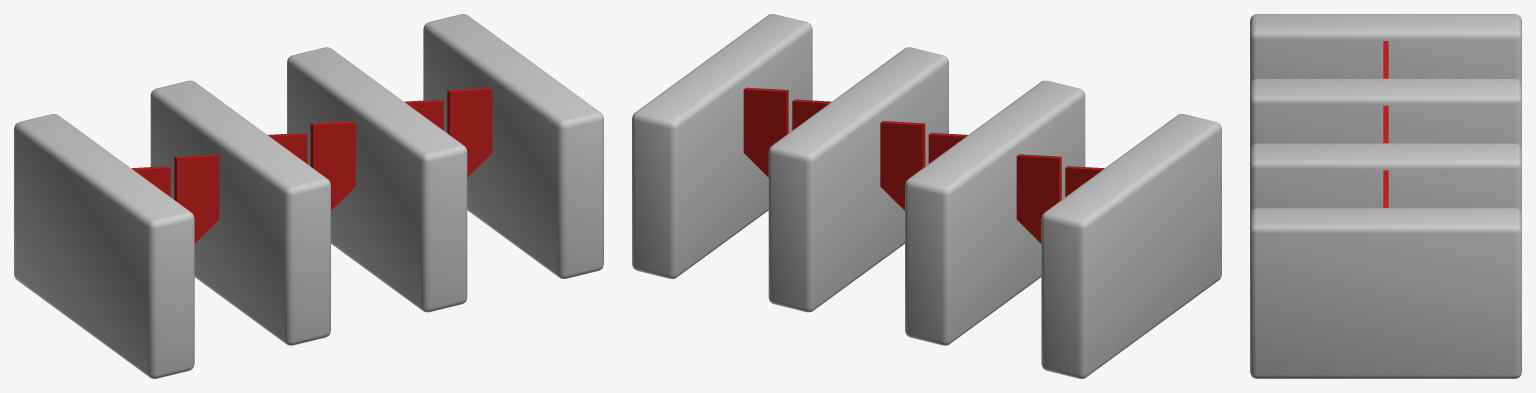
Rendered from rail.feature.ticket_gate.glb.
3 views of the same model, side by side, from view 1: azimuth 30°, elevation 25°; view 2: azimuth 150°, elevation 25°; view 3: azimuth 270°, elevation 25° (orthographic). The views are drawn at different scales.
Visible parts, largest first — view 1: main__steel_stainless, main__hazard_red; view 2: main__steel_stainless, main__hazard_red; view 3: main__steel_stainless, main__hazard_red.
Part boxes in pixels (x1=…): main__steel_stainless: x1=14, y1=14, x2=603, y2=378; main__hazard_red: x1=131, y1=87, x2=492, y2=243; main__steel_stainless: x1=632, y1=14, x2=1221, y2=378; main__hazard_red: x1=743, y1=87, x2=1104, y2=243; main__steel_stainless: x1=1250, y1=14, x2=1521, y2=378; main__hazard_red: x1=1383, y1=41, x2=1388, y2=207.
Size of the model in its own units: 3 by 1 by 1.6.
